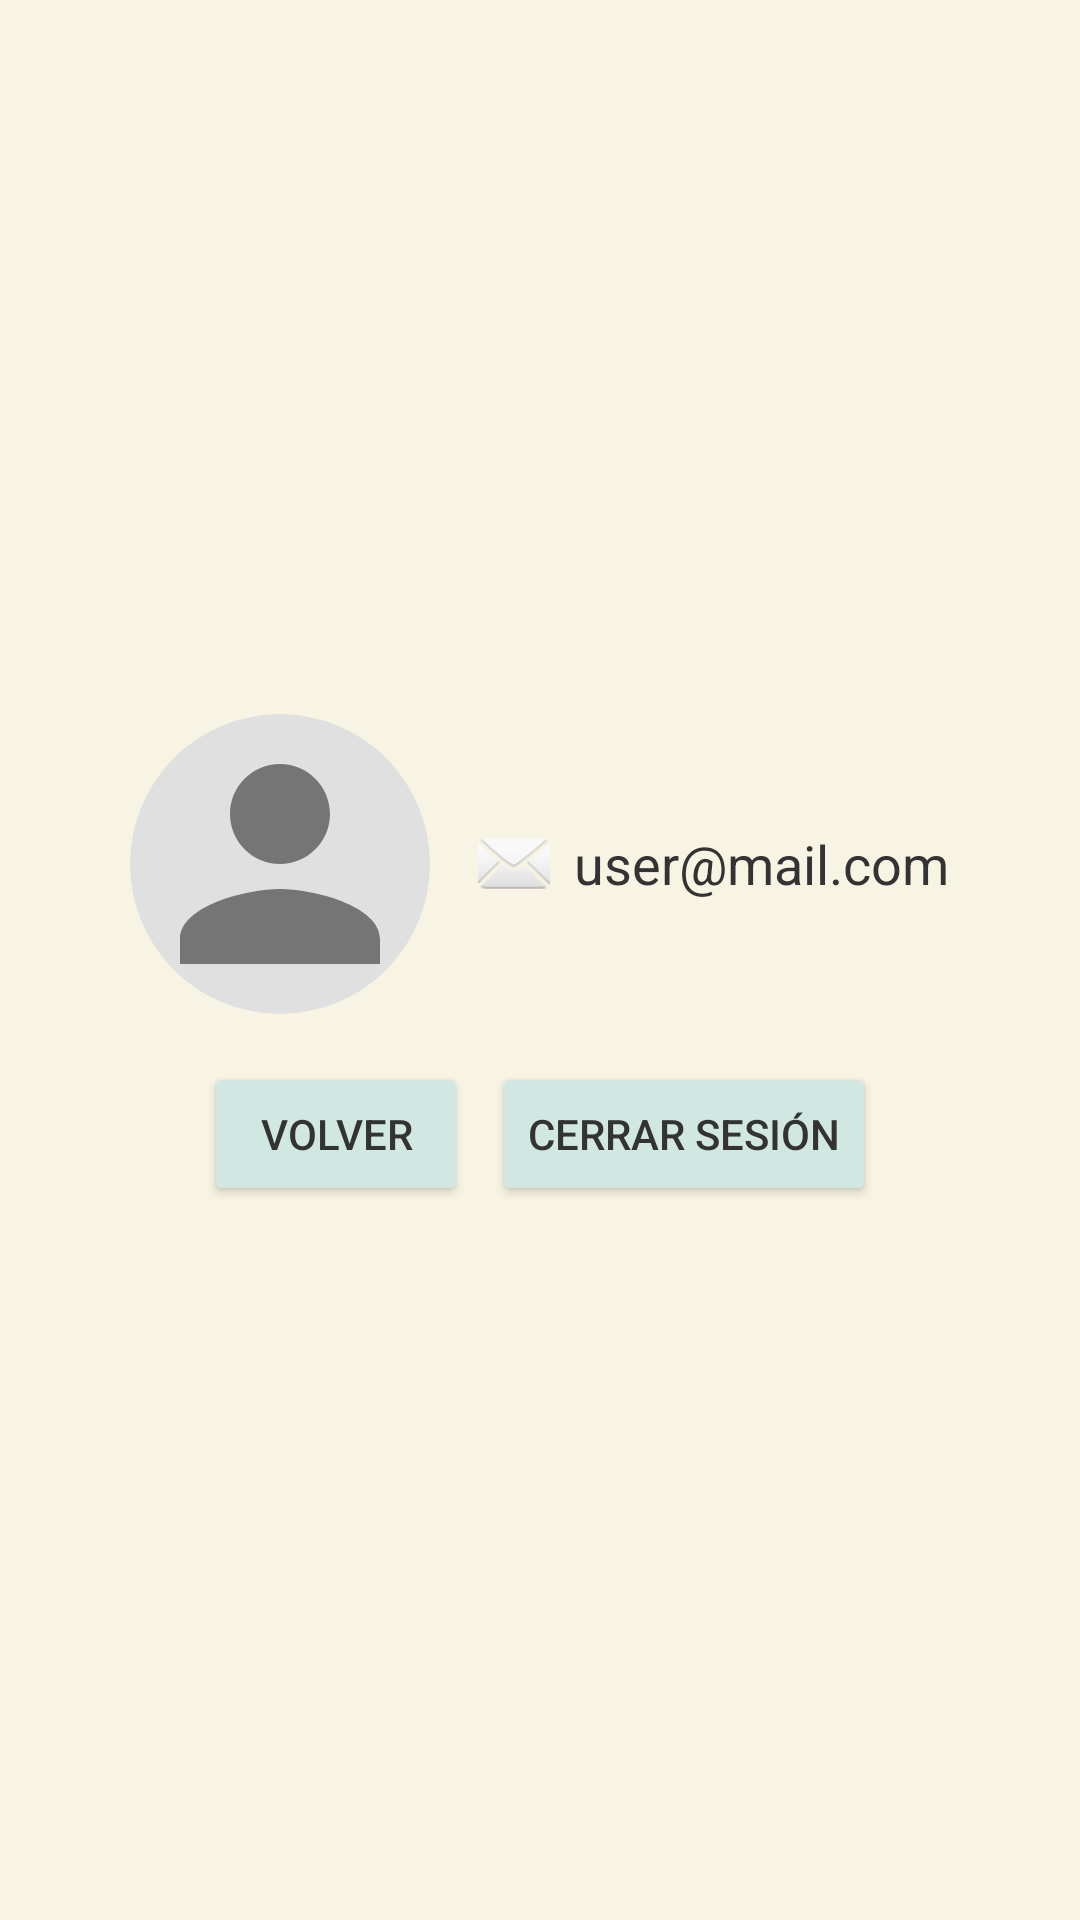

Icon click points for this 1080×1920 phone screenshot, format (x=x, y=y):
email: (x=514, y=864)
